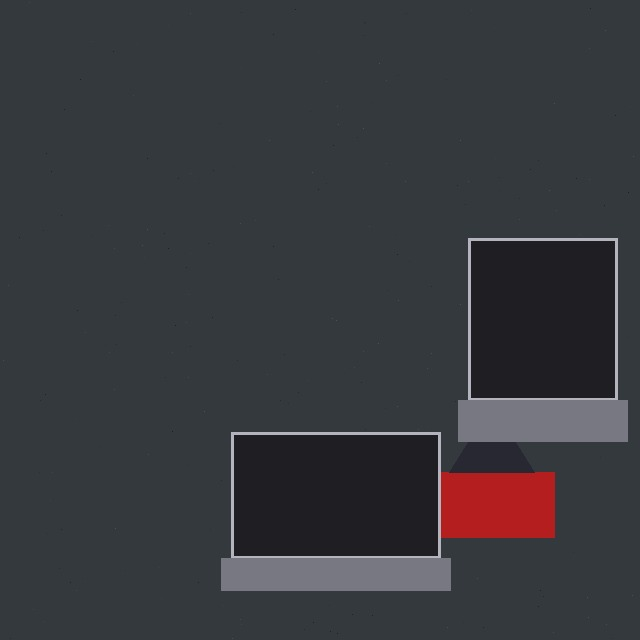laptop: (231, 432, 440, 590), (468, 238, 617, 441)
vehicle: (429, 440, 554, 537)
